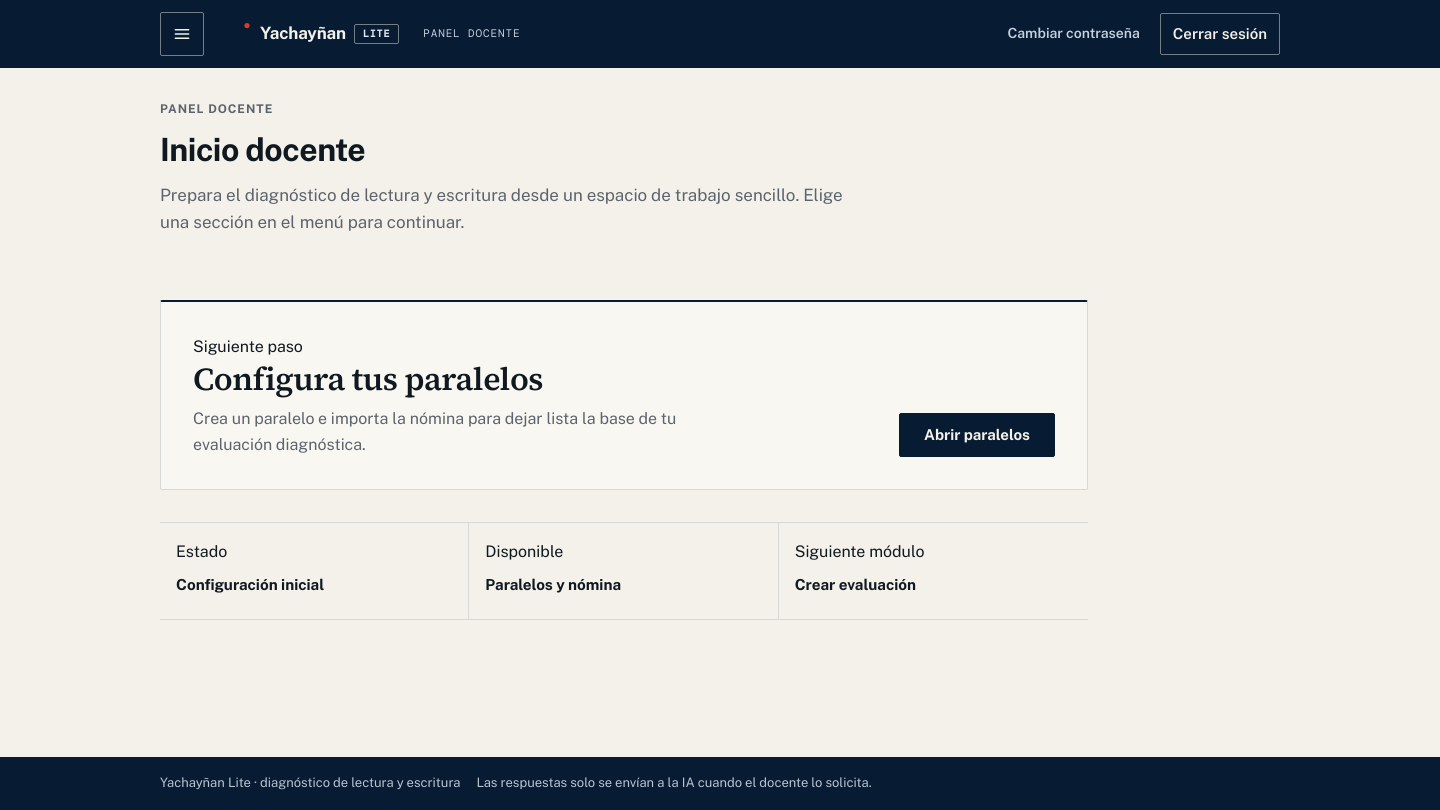
Test: App › presenta la navegación docente dentro de un menú lateral plegable
Click the button named "Abrir menú docente": (182, 34) left=160, top=12, right=204, bottom=56
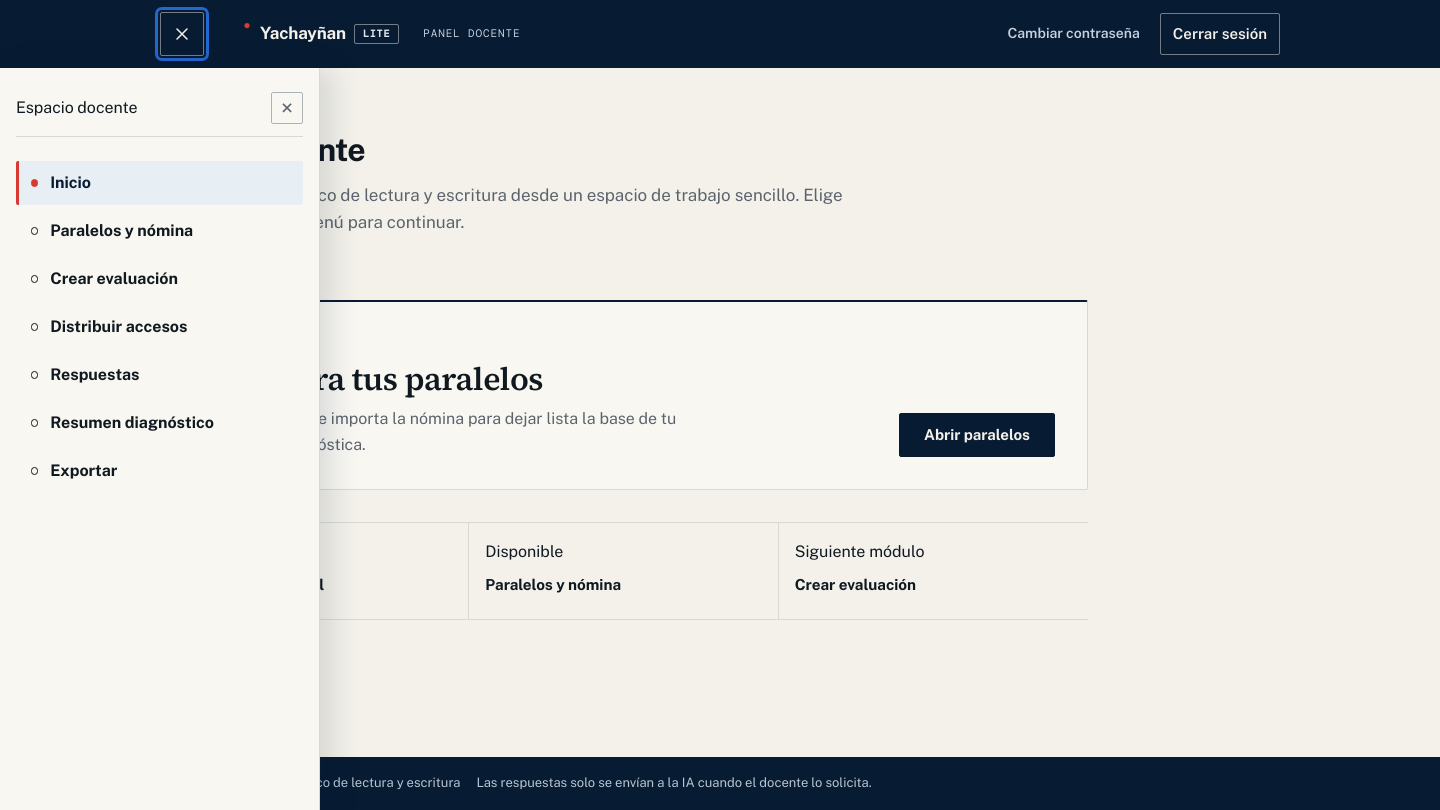
Check: the button named "Abrir menú docente" is expanded, box left=160, top=12, right=204, bottom=56
Check: the navigation bar named "Navegación docente" is shown, box left=16, top=161, right=303, bottom=493
Check: the link "Paralelos y nómina" is shown, box left=31, top=221, right=193, bottom=240
Click the button named "Cerrar menú docente": (287, 108) left=271, top=92, right=303, bottom=124
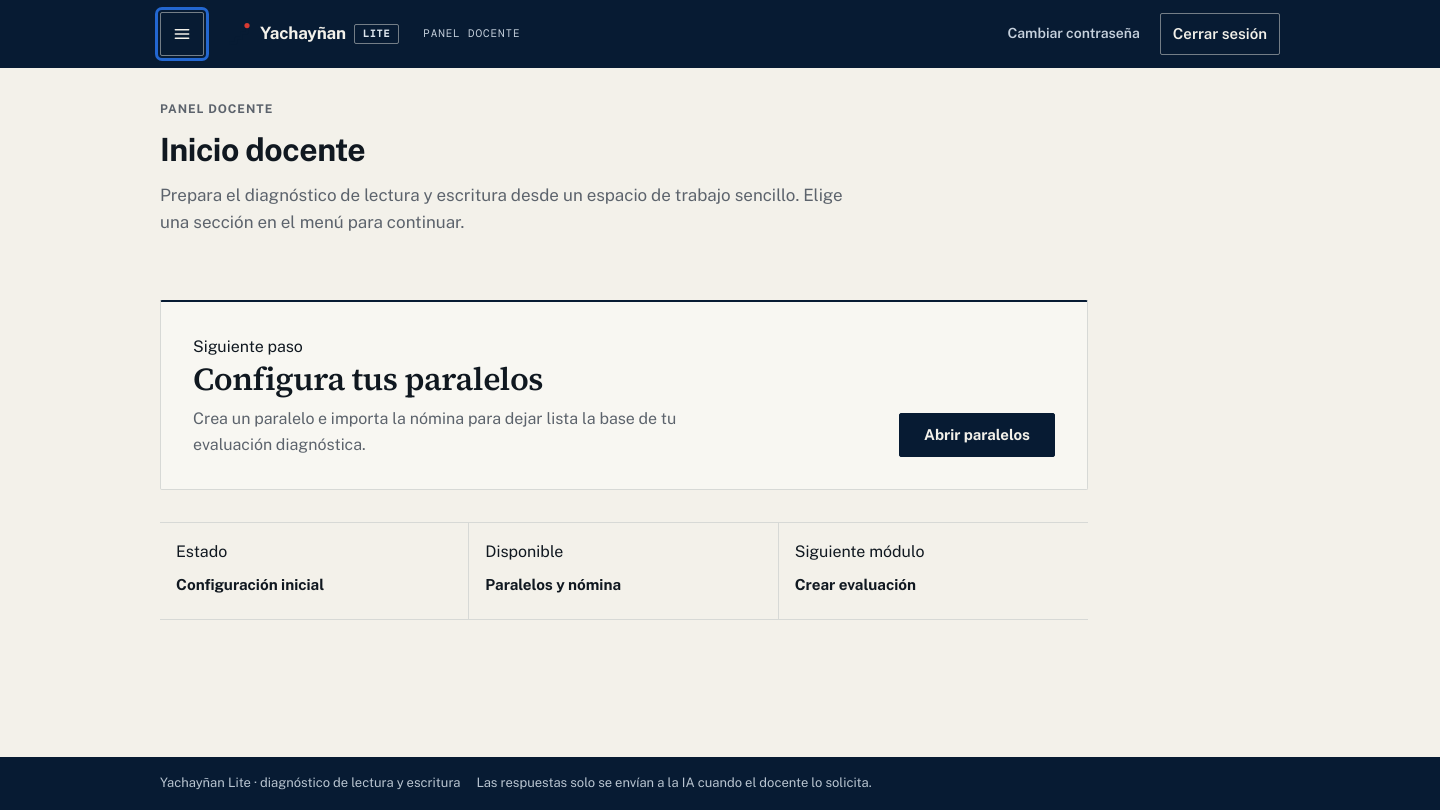
Check: the button named "Abrir menú docente" is collapsed, box left=160, top=12, right=204, bottom=56
